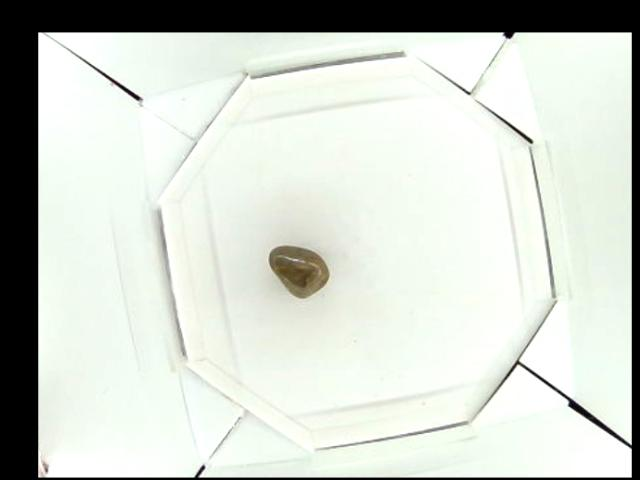Pebble: (267, 242, 331, 298)
